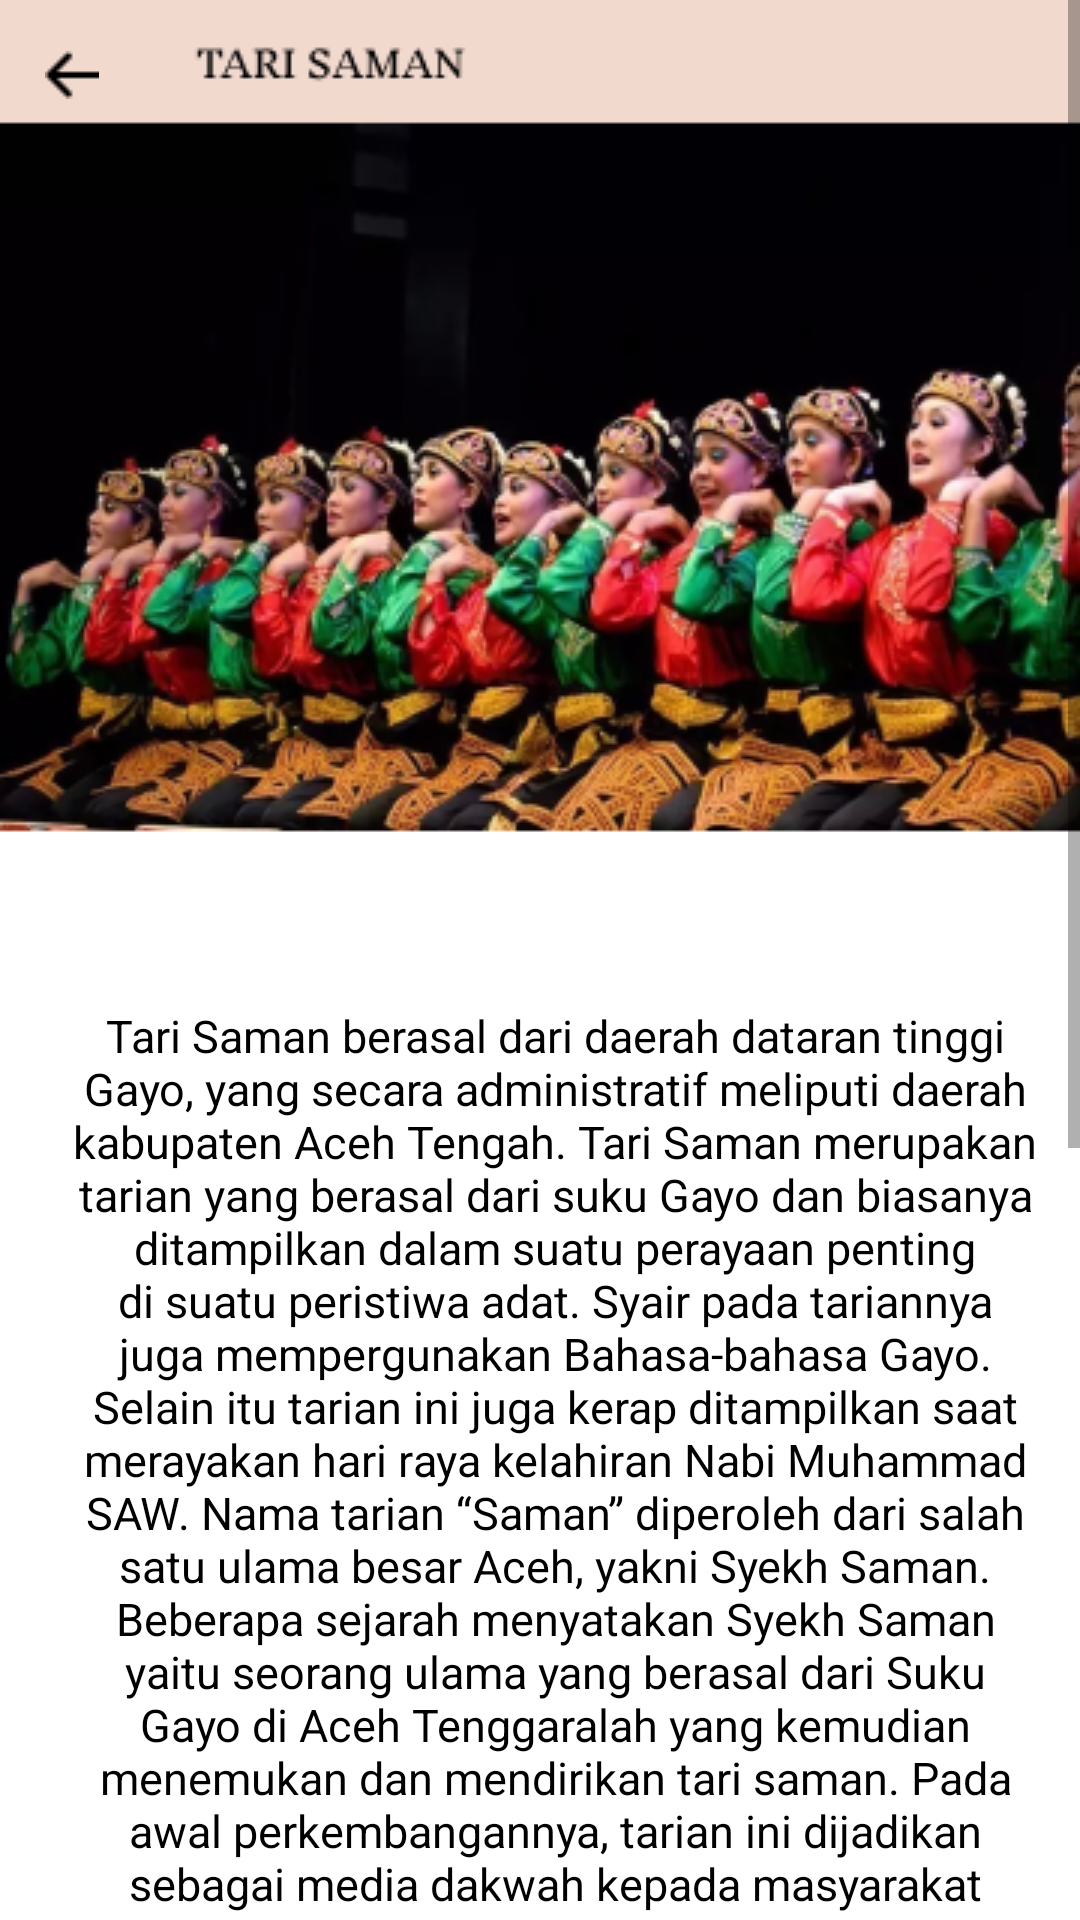

Named icons in this screenshot (1080x1920) and their bounding boxes, bbox(x1, y1, x2, y2):
back: bbox(45, 51, 99, 99)
